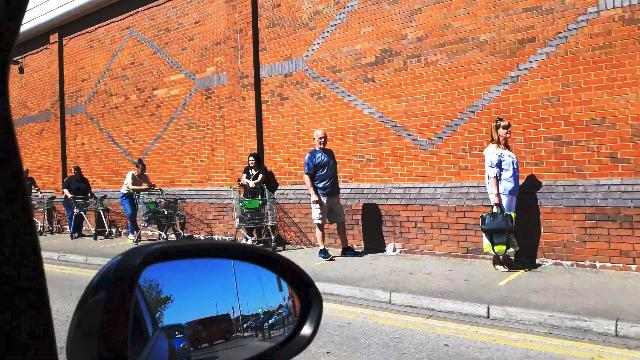berdiri: (300, 127, 362, 264), (482, 117, 534, 271)
